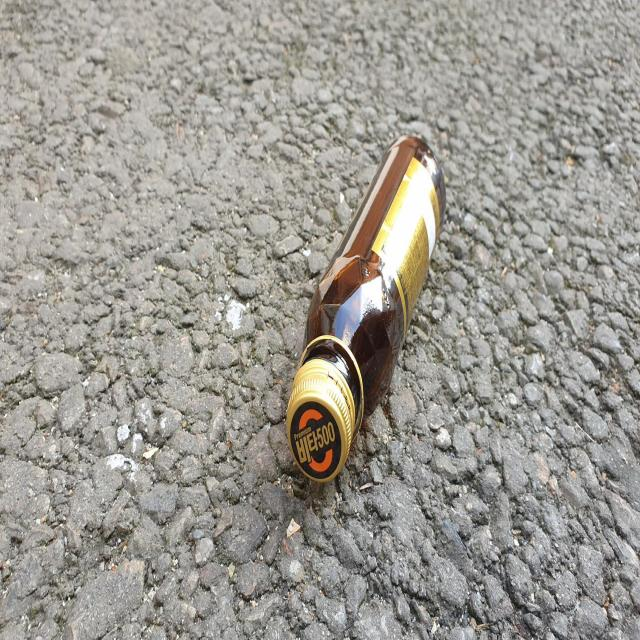glass: (287, 135, 446, 482)
